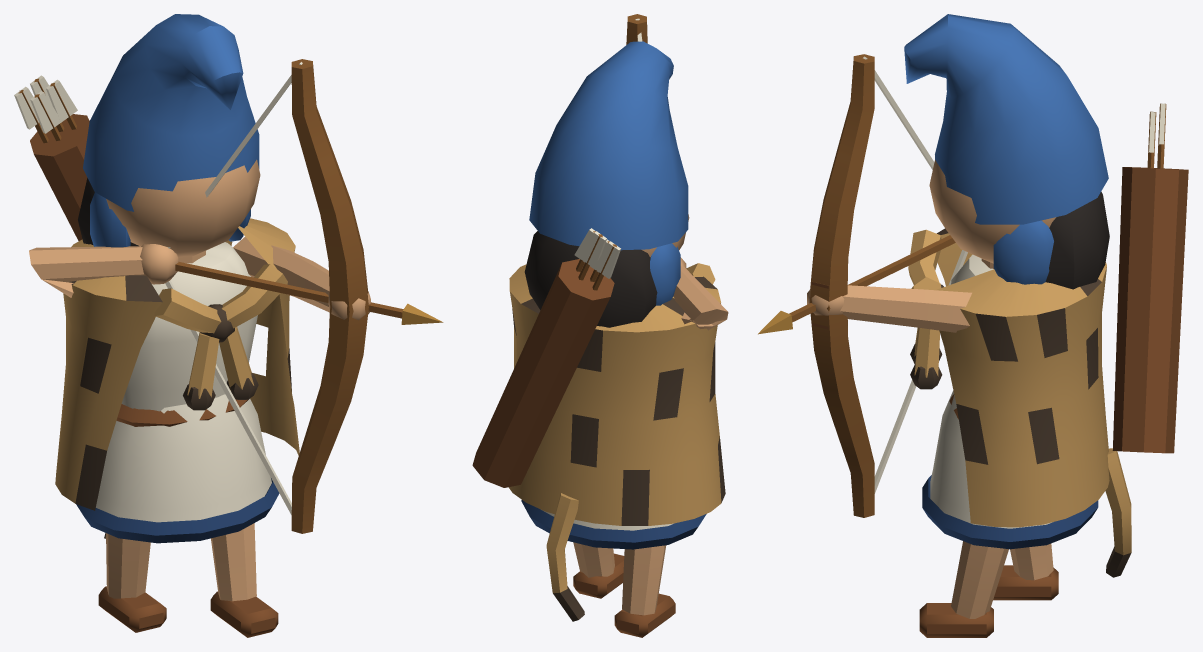
Rendered from paris.glb.
3 views of the same model, side by side, from view 1: azimuth 30°, elevation 25°; view 2: azimuth 150°, elevation 25°; view 3: azimuth 270°, elevation 25° (orthographic). The views are drawn at different scales.
Visible parts, largest first — view 1: paris; view 2: paris; view 3: paris.
Boxes of the visible parts, x1,y1,x2,y2 form: paris: [14, 14, 443, 637]; paris: [472, 14, 728, 637]; paris: [758, 14, 1188, 637].
Bounding box in the file's own units: 0.3967 × 0.8476 × 0.5555.
